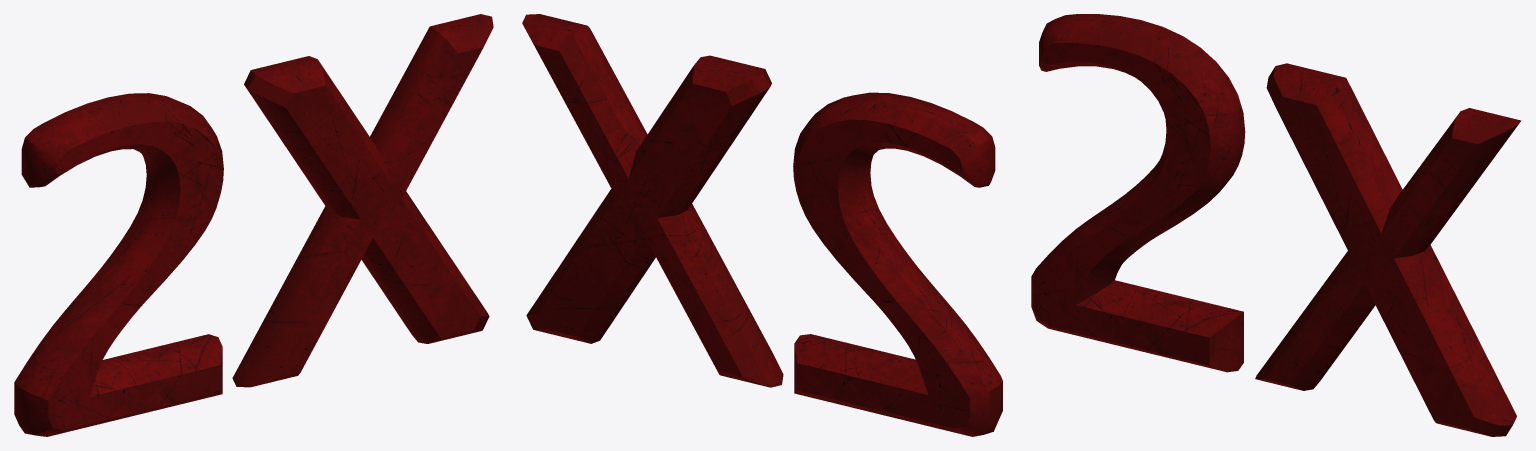
Rendered from doublepoint.glb.
The picture shows the model from 3 angles, left to right: view 1: azimuth 30°, elevation 25°; view 2: azimuth 150°, elevation 25°; view 3: azimuth 330°, elevation 25°; orthographic projection. The views are drawn at different scales.
Parts seen in each view (by area): view 1: typeMesh1; view 2: typeMesh1; view 3: typeMesh1.
Boxes of the visible parts, <box> form: typeMesh1: <box>14,14,493,436</box>; typeMesh1: <box>522,14,1002,436</box>; typeMesh1: <box>1031,14,1521,436</box>.
Bounding box in the file's own units: 0.1794 × 0.1145 × 0.0202.
Materials: 1 (1 with a texture image).
